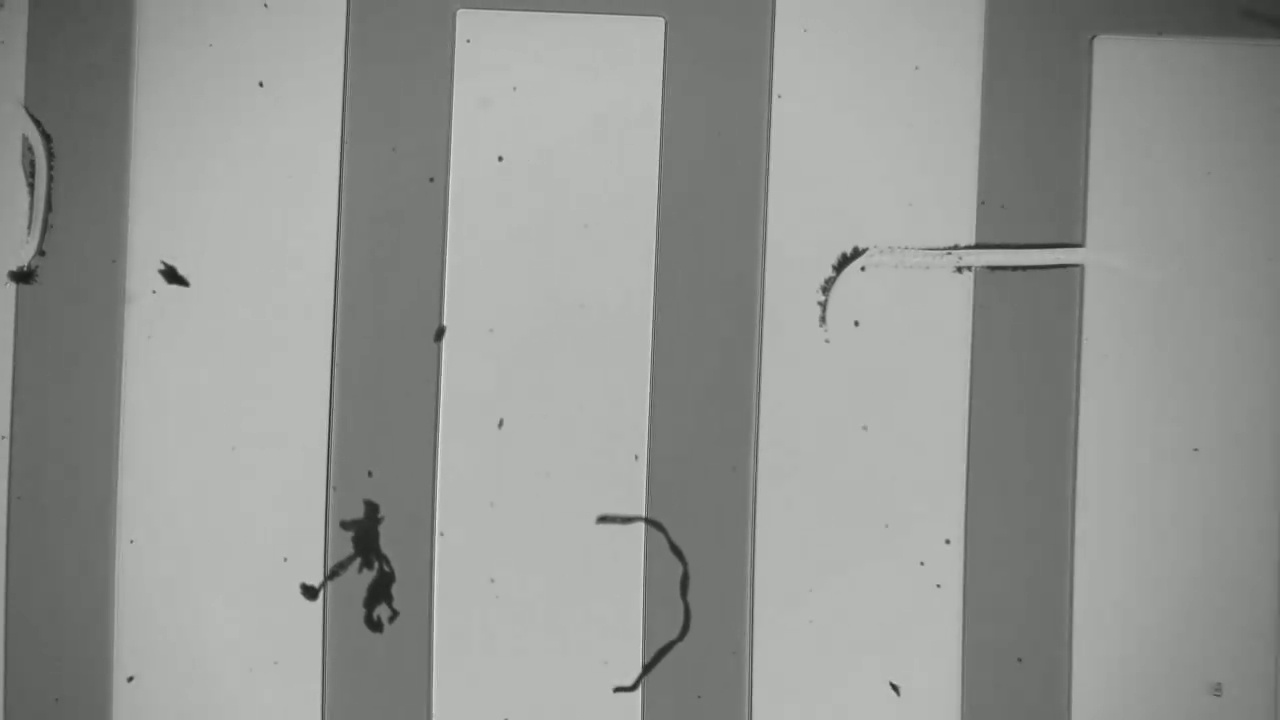Short_circuit: (937, 221, 1113, 301)
